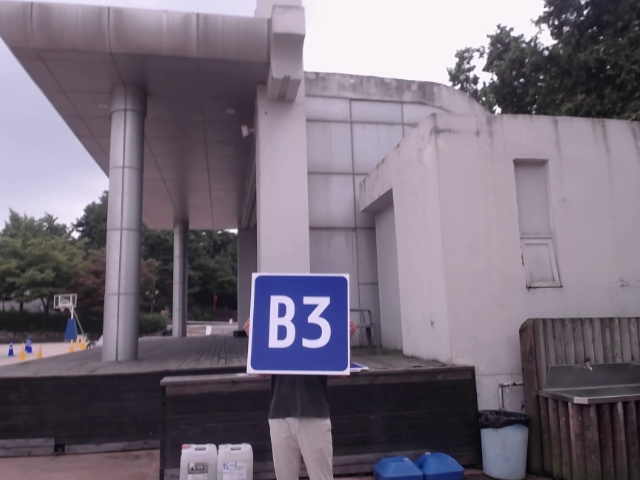delivery_b3: (251, 275, 350, 373)
